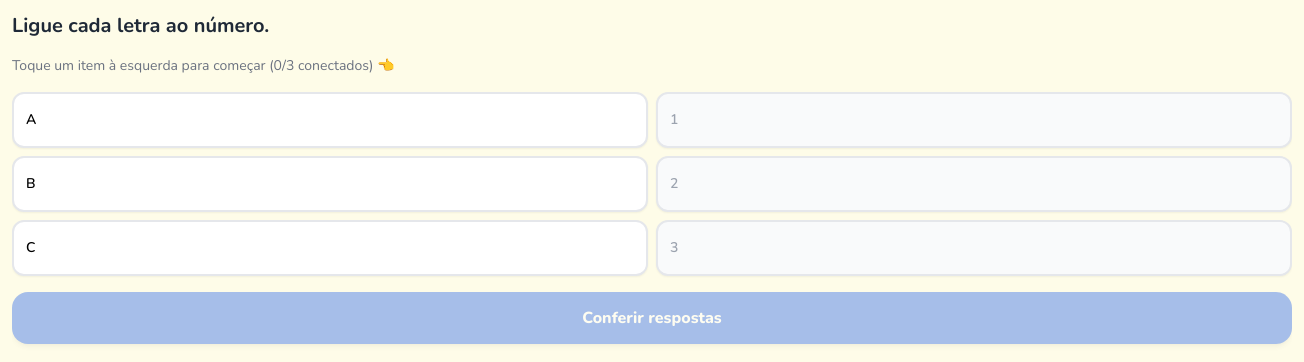
Test: MatchColumns › permite desfazer um par antes da conferência
What coordinates should you click on to do the following:
click the button "A"
I would click on:
 (31, 120)
Its box is [12,92,648,148].
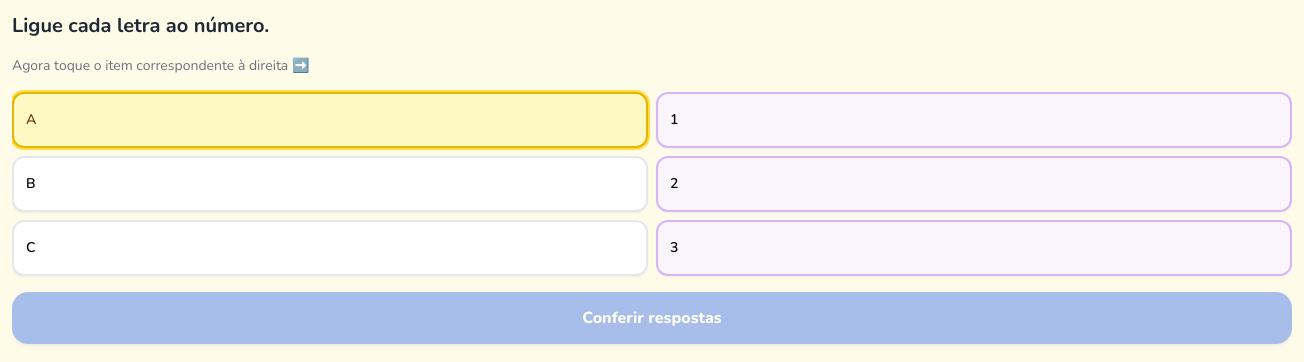
What coordinates should you click on to do the following:
click the button "1"
I would click on:
 (674, 120)
Its box is [656,92,1292,148].
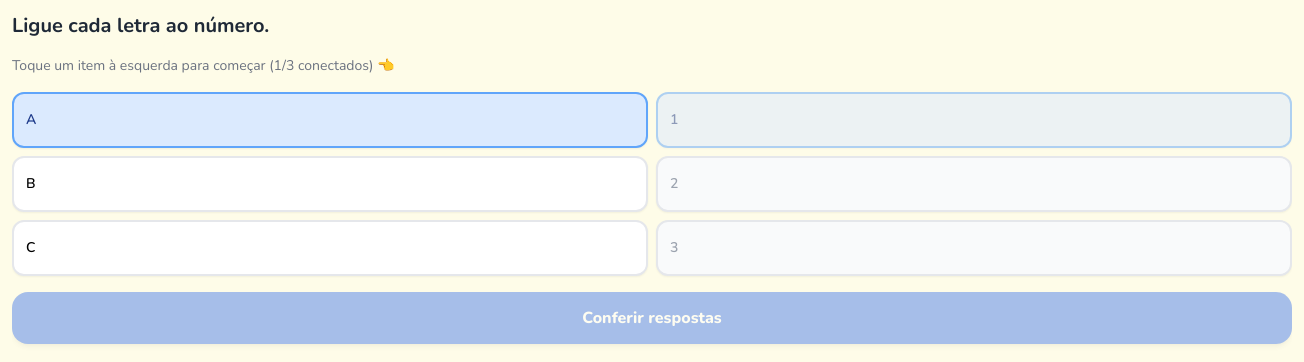
Check: the text "Toque um item à esquerda para começar (1/3 conectados) 👈" is shown, box [12,56,394,75]
What coordinates should you click on to do the following:
click the button named "A, conectado; toque para desfazer"
I would click on:
 (31, 120)
Its box is [12,92,648,148].
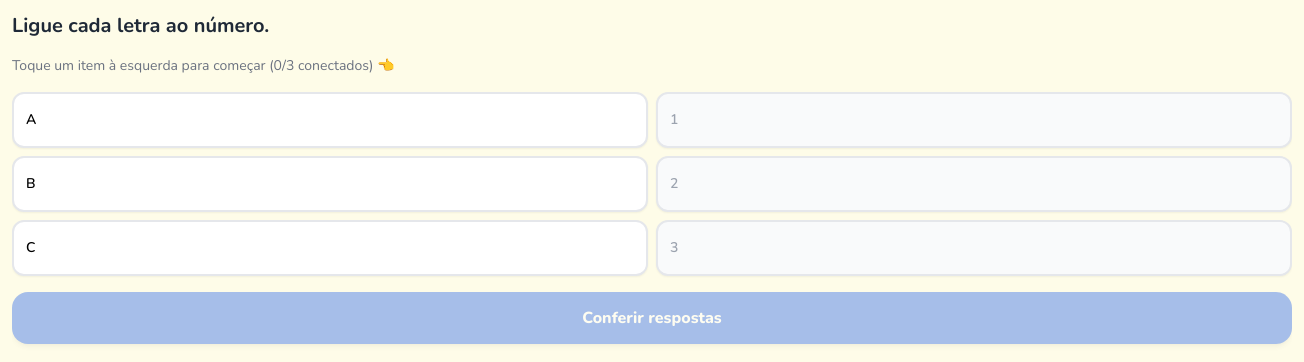
Check: the text "Toque um item à esquerda para começar (0/3 conectados) 👈" is shown, box [12,56,394,75]
